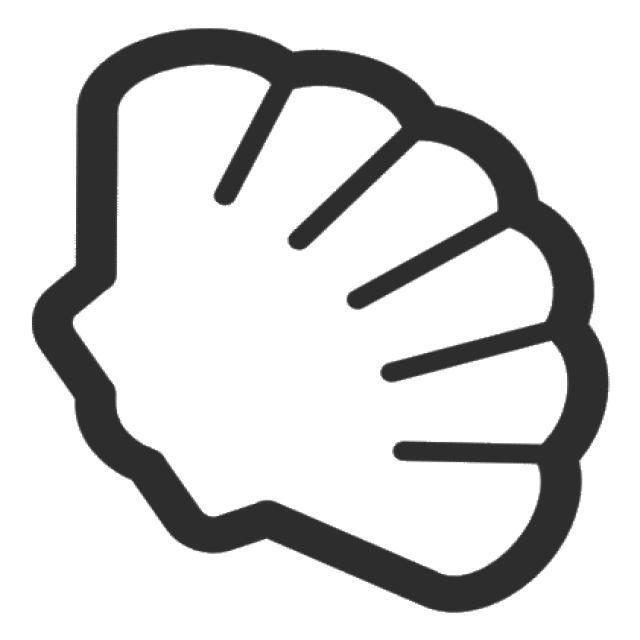shell: (21, 19, 622, 627)
